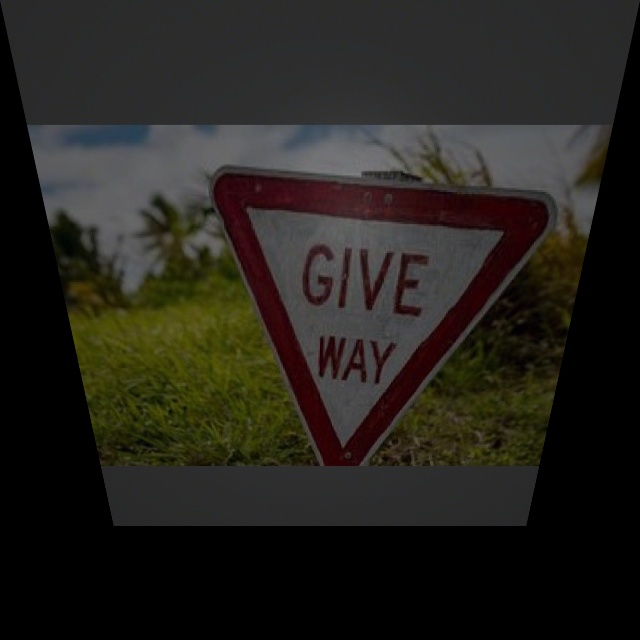Give_Way: (211, 173, 556, 454)
